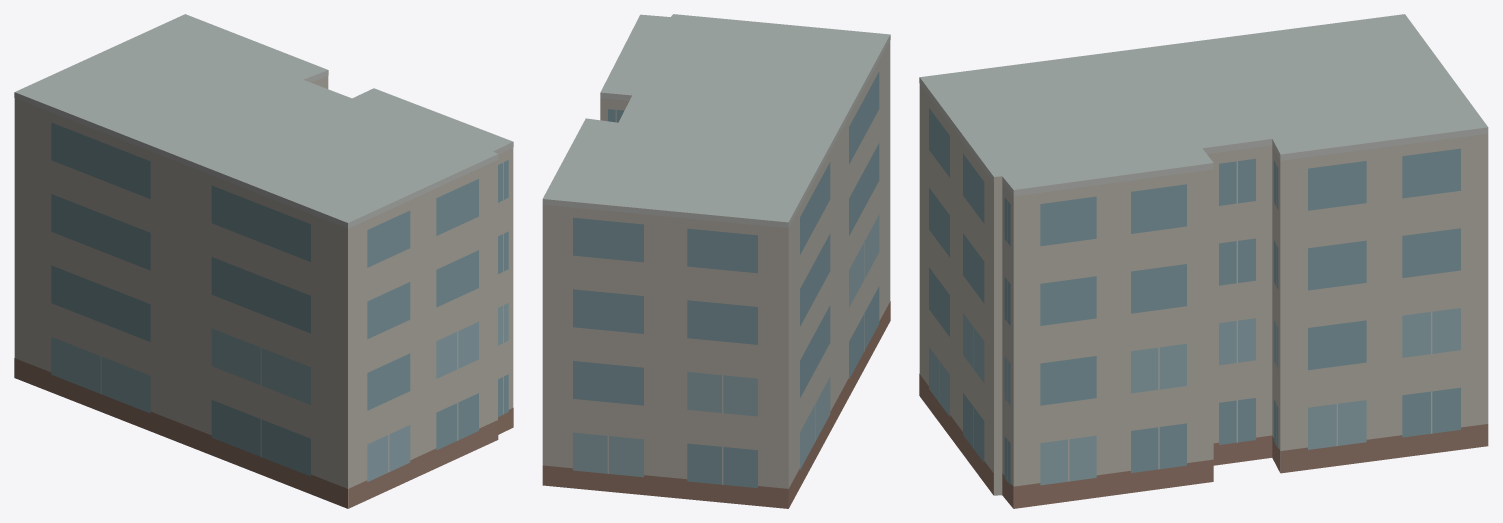
Rendered from survey-upis-32940028.glb.
The picture shows the model from 3 angles, left to right: view 1: azimuth 30°, elevation 25°; view 2: azimuth 150°, elevation 25°; view 3: azimuth 270°, elevation 25°; orthographic projection. The views are drawn at different scales.
Visible parts, largest first — view 1: survey-upis-32940028.tmp; view 2: survey-upis-32940028.tmp; view 3: survey-upis-32940028.tmp.
Part boxes in pixels (x1,y1,x2,y2): survey-upis-32940028.tmp: (14,14,513,508); survey-upis-32940028.tmp: (542,14,890,508); survey-upis-32940028.tmp: (919,14,1488,508).
Size of the model in its own units: 14.46 by 12.2 by 19.73.
